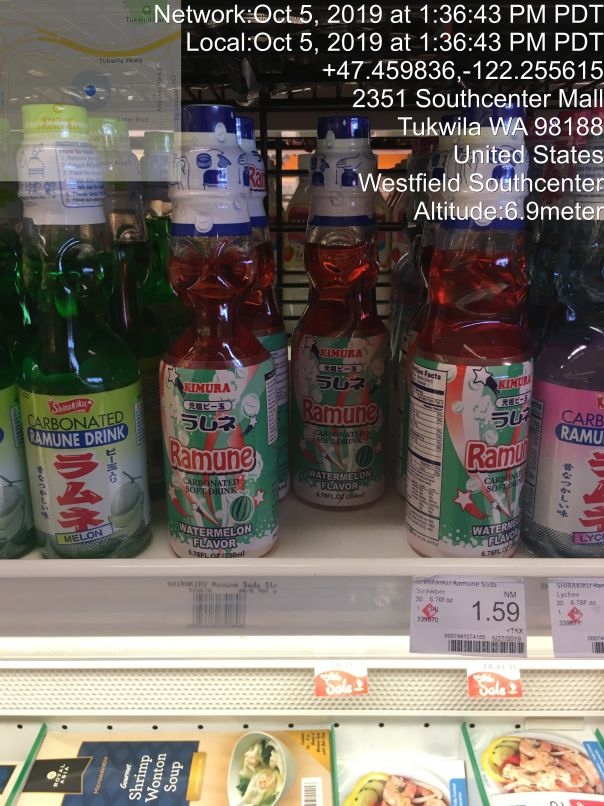Ramune Drink: (2, 86, 156, 564), (144, 83, 297, 560), (420, 99, 543, 556), (282, 99, 399, 513)
Void: (279, 111, 415, 554)
